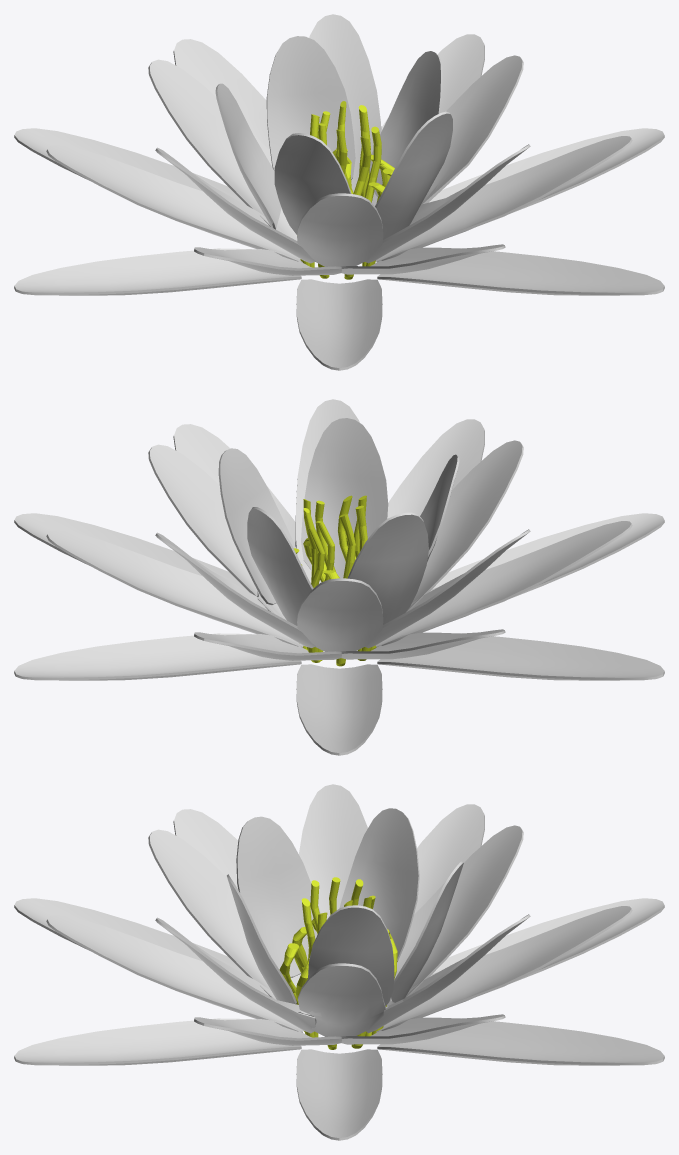
File: Lirio.fbx
3 renders of one model, top to bottom at view 1: azimuth 30°, elevation 25°; view 2: azimuth 150°, elevation 25°; view 3: azimuth 270°, elevation 25°, orthographic.
Visible parts, largest first — view 1: Plane.017; view 2: Plane.017; view 3: Plane.017.
Boxes of the visible parts, <box> form: Plane.017: <box>14,14,664,370</box>; Plane.017: <box>14,399,664,755</box>; Plane.017: <box>14,784,664,1140</box>.
Size of the model in its own units: 191 by 51.16 by 167.
